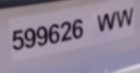2: (61, 20, 71, 41)
5: (12, 30, 24, 50)
6: (72, 17, 83, 38), (49, 23, 59, 43)
9: (36, 25, 47, 45), (25, 28, 35, 48)
w: (116, 8, 133, 26), (97, 13, 114, 30)
